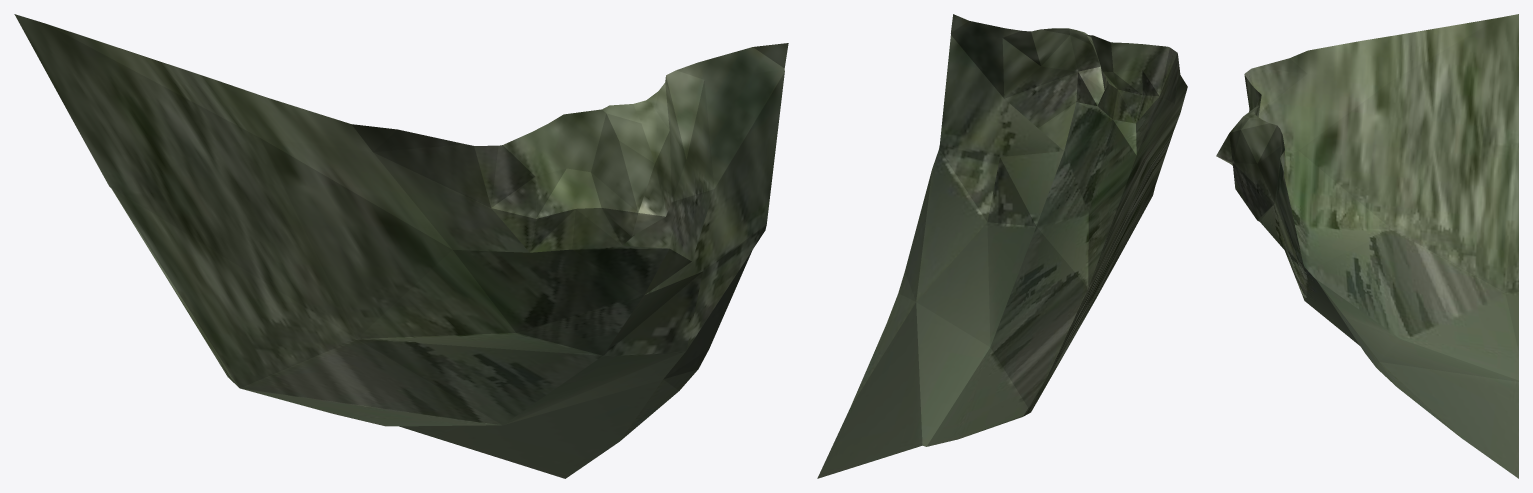
3 views of the same model, side by side, from view 1: azimuth 30°, elevation 25°; view 2: azimuth 150°, elevation 25°; view 3: azimuth 270°, elevation 25° (orthographic). The views are drawn at different scales.
Size of the model in its own units: 2.08 by 2.17 by 1.85.
Materials: 2 (2 with a texture image).
